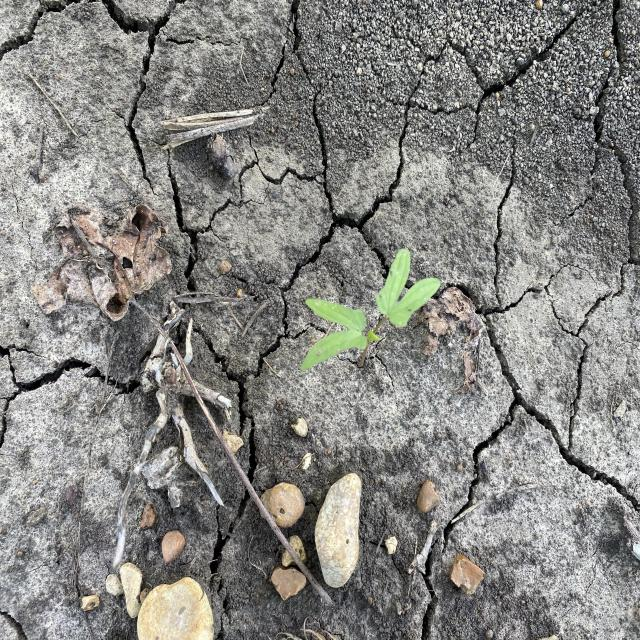MorningGlory: (298, 246, 442, 376)
